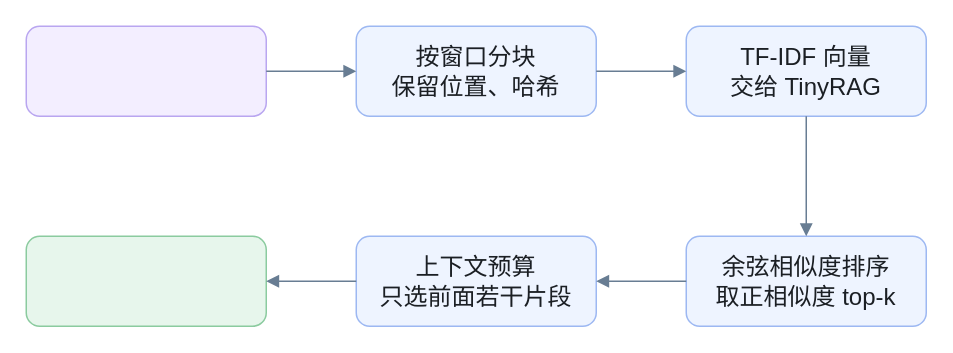
The diagram is 953 pixels wide and 353 high, and some of its shapes have lost their labels. The shapes that lost their labels are listed below. From the top down, each one's box as (x1, y1, x2, y2) in pixels, then its label:
(25, 25, 266, 116): 挂载文档 读取文本与版本
(25, 235, 266, 326): 回填工具结果 下一次模型输入
